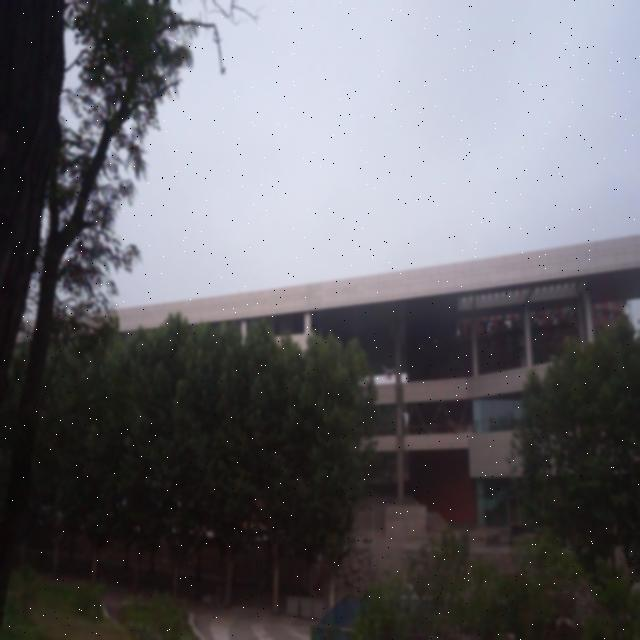UAV: (382, 366, 396, 381)
